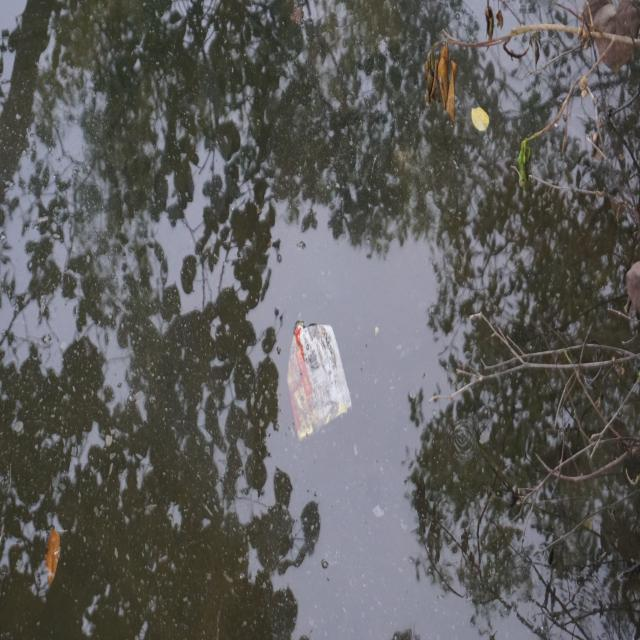Bungkus Makanan: (282, 307, 357, 439)
